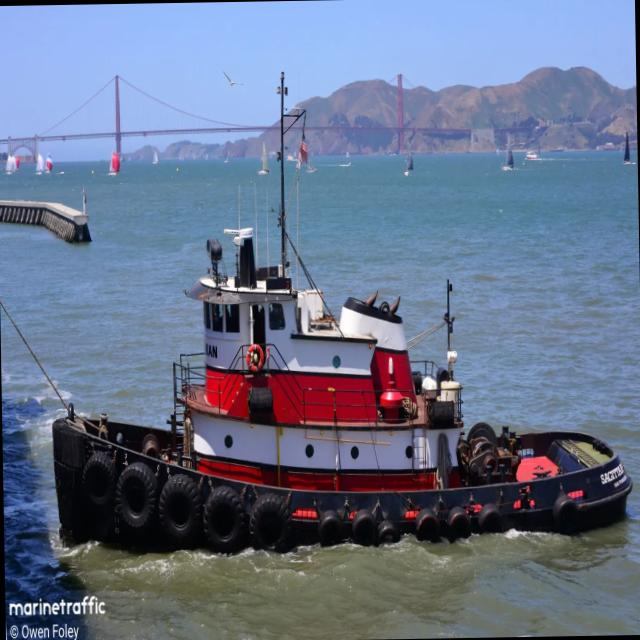Tug: (53, 72, 631, 553)
